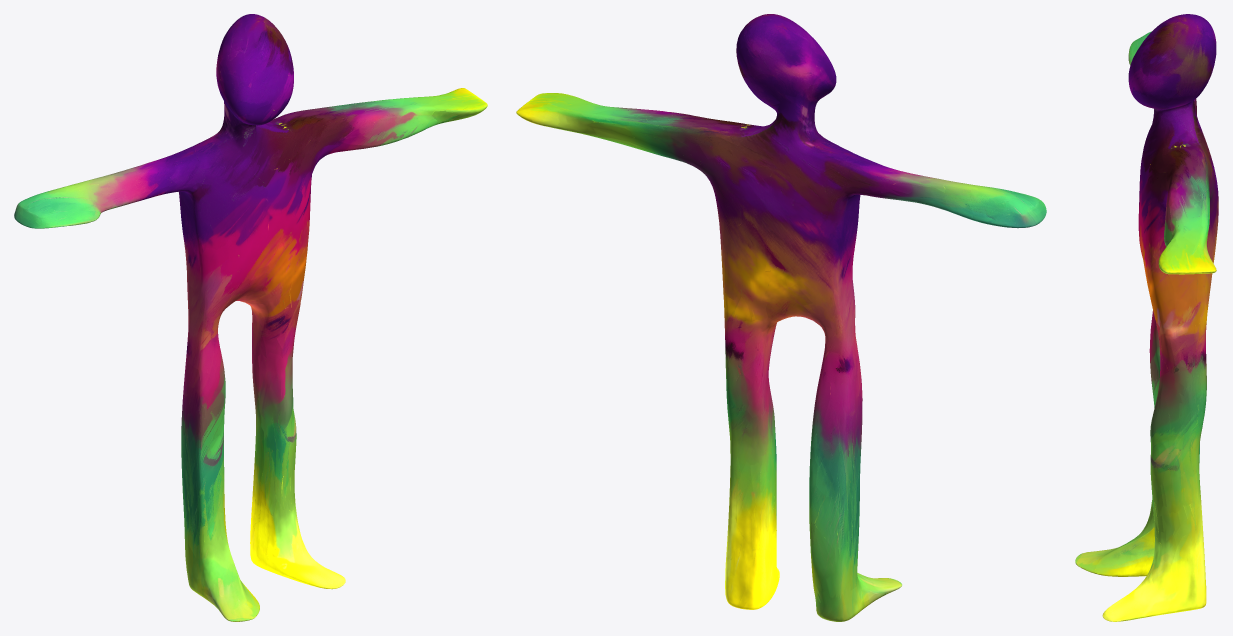
Rendered from neon-abstract-figure-in-t-pose.glb.
3 renders of one model, left to right at view 1: azimuth 30°, elevation 25°; view 2: azimuth 150°, elevation 25°; view 3: azimuth 270°, elevation 25°, orthographic. The views are drawn at different scales.
Visible parts, largest first — view 1: Mesh_0; view 2: Mesh_0; view 3: Mesh_0.
Part boxes in pixels (x1,y1,x2,y2): Mesh_0: (14,14,487,621); Mesh_0: (516,14,1046,621); Mesh_0: (1075,14,1218,621).
Size of the model in its own units: 1.69 by 1.9 by 0.4264.
1 material, 1 textured.
